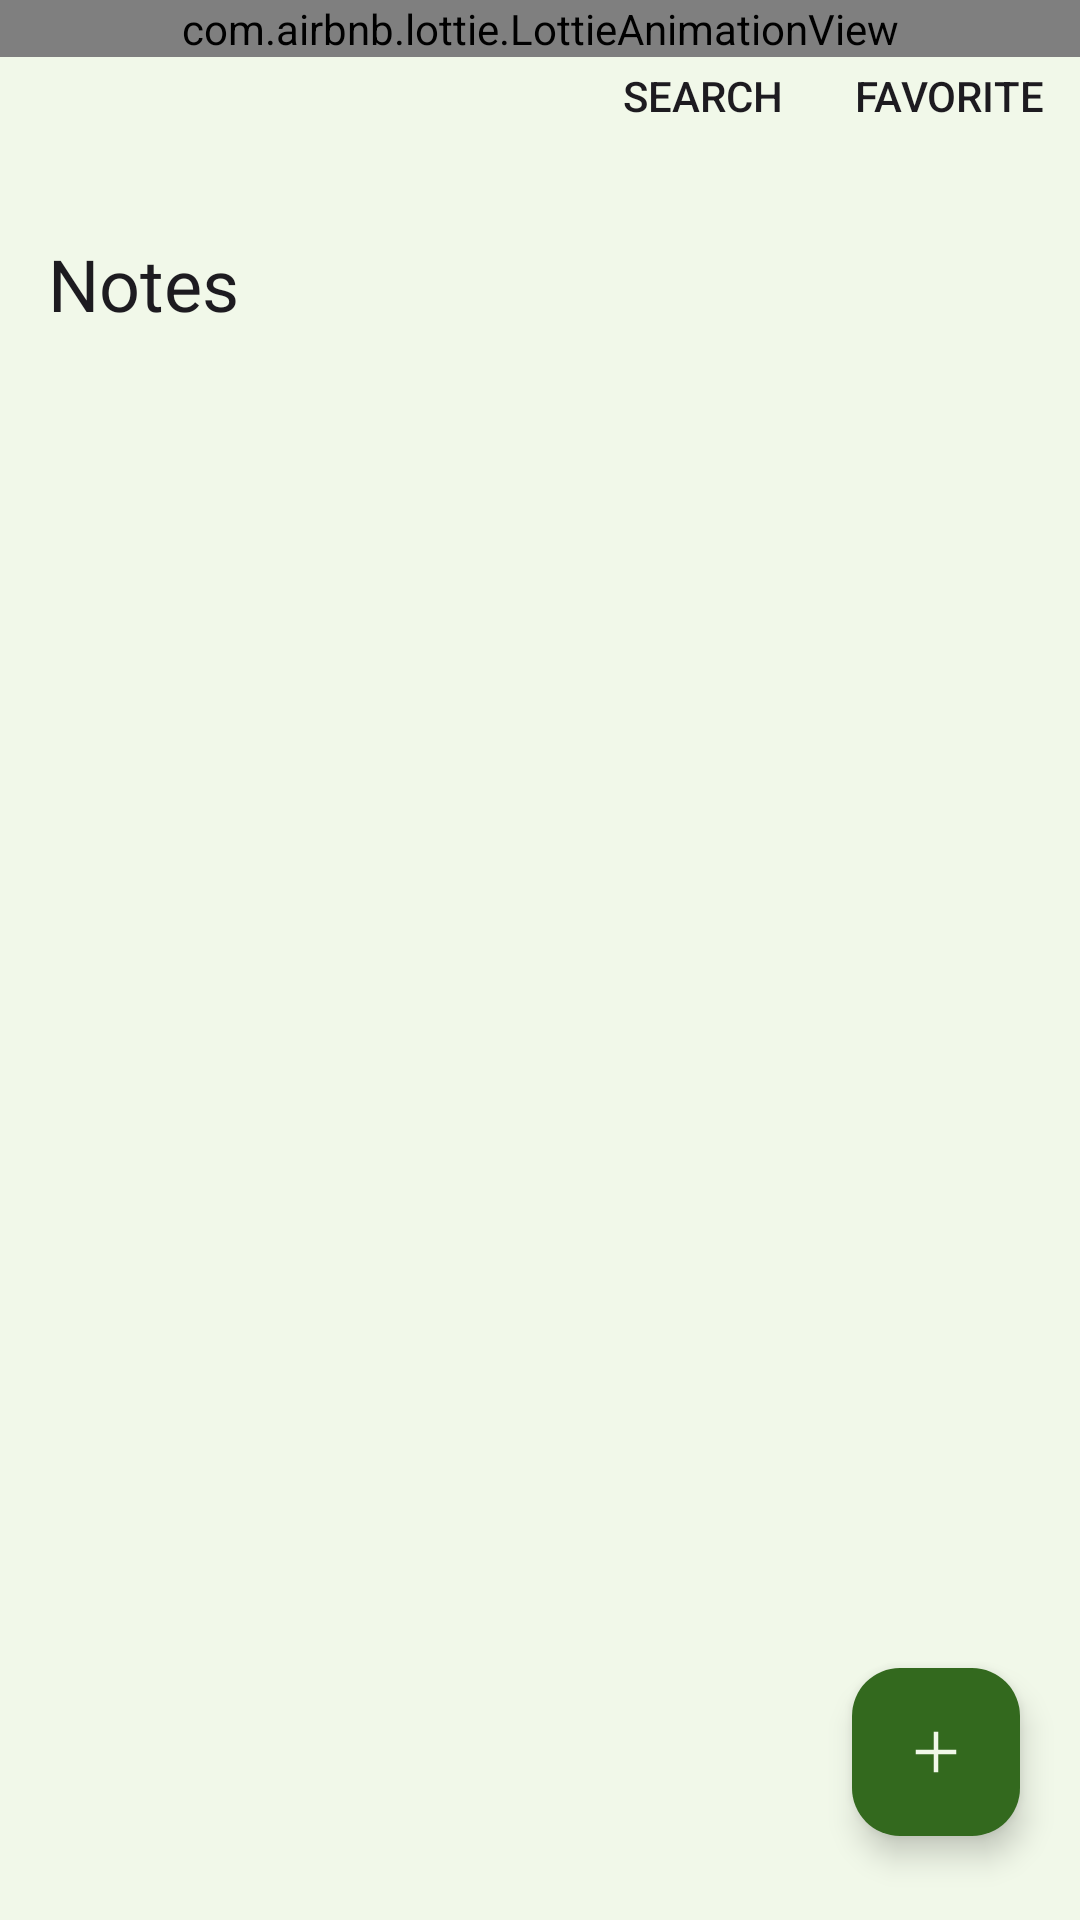

Where icons sit on this 1080 × 1920 app screen, as bbox=(x1, y1, x2, y2):
add: bbox=(852, 1668, 1020, 1836)
